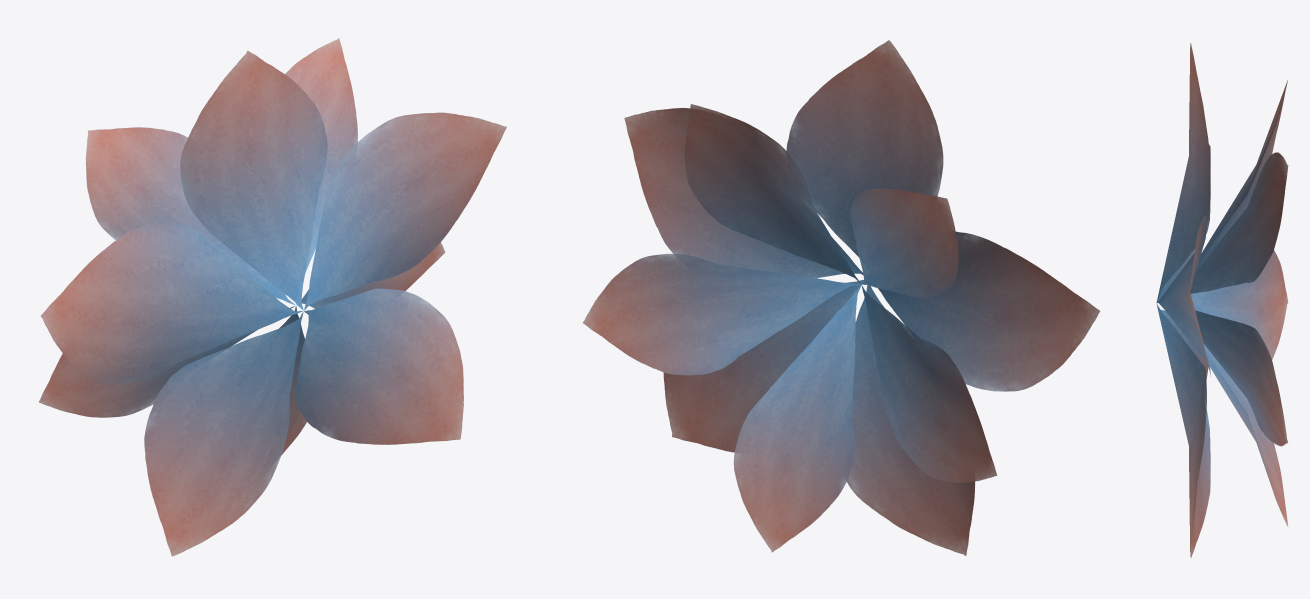
File: fror.glb
The picture shows the model from 3 angles, left to right: view 1: azimuth 30°, elevation 25°; view 2: azimuth 150°, elevation 25°; view 3: azimuth 270°, elevation 25°; orthographic projection. The views are drawn at different scales.
Parts seen in each view (by area): view 1: pPlane5; view 2: pPlane5; view 3: pPlane5.
Part boxes in pixels (<box>): pPlane5: <box>39,38,506,556</box>; pPlane5: <box>583,40,1099,555</box>; pPlane5: <box>1156,43,1288,557</box>.
Size of the model in its own units: 2.69 by 2.7 by 0.664.
Materials: 1 (1 with a texture image).
